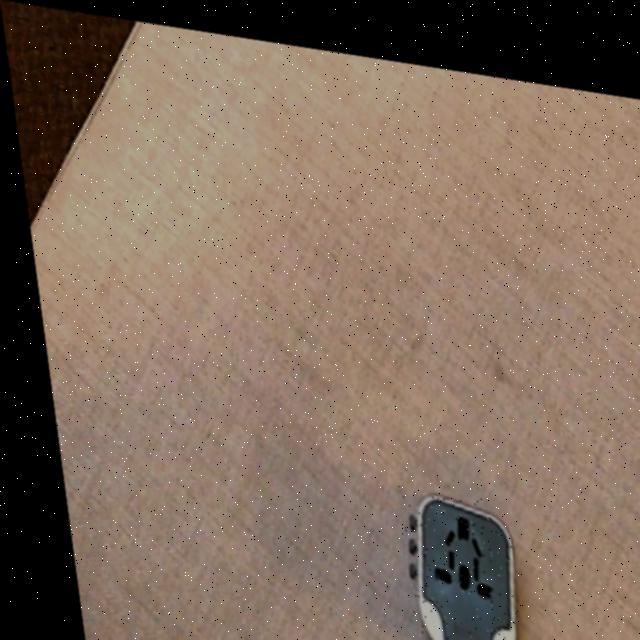adapter: (384, 475, 512, 640)
